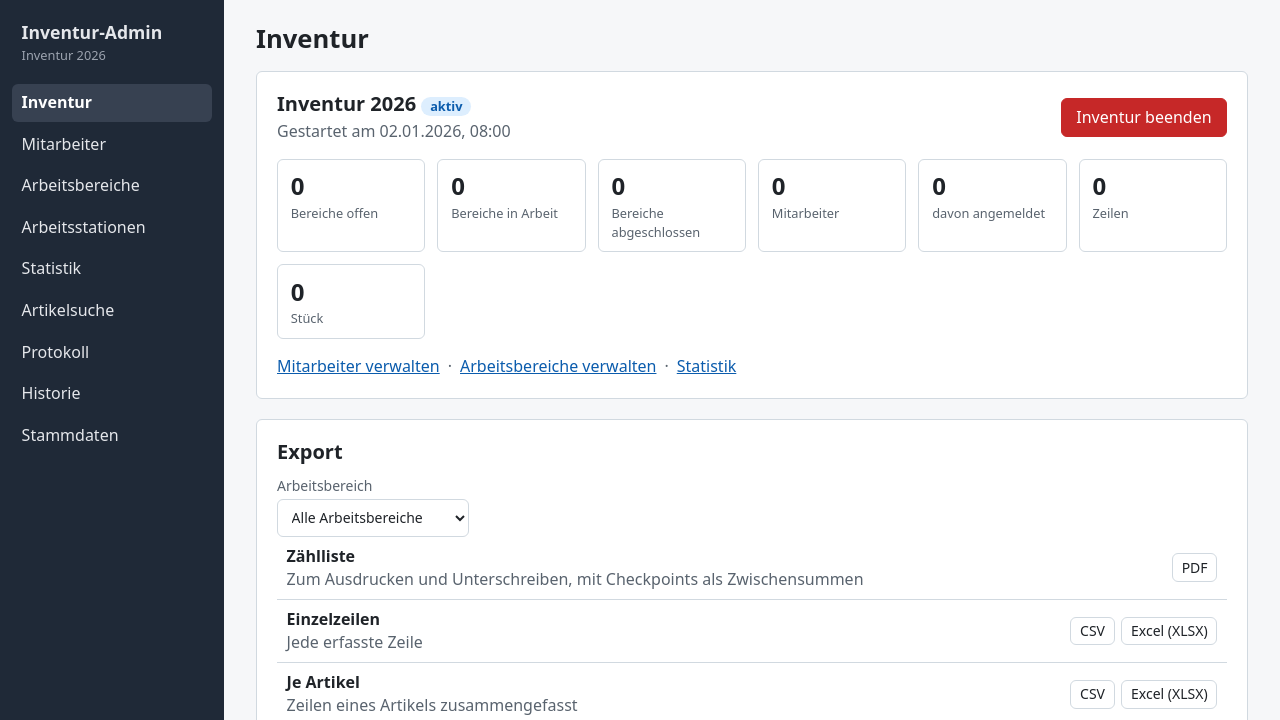
it: stocktake page › closes the finish dialog on cancel without finishing
This screenshot has width=1280, height=720.
Click the button "Inventur beenden": [1144, 117] box [1061,98,1227,137]
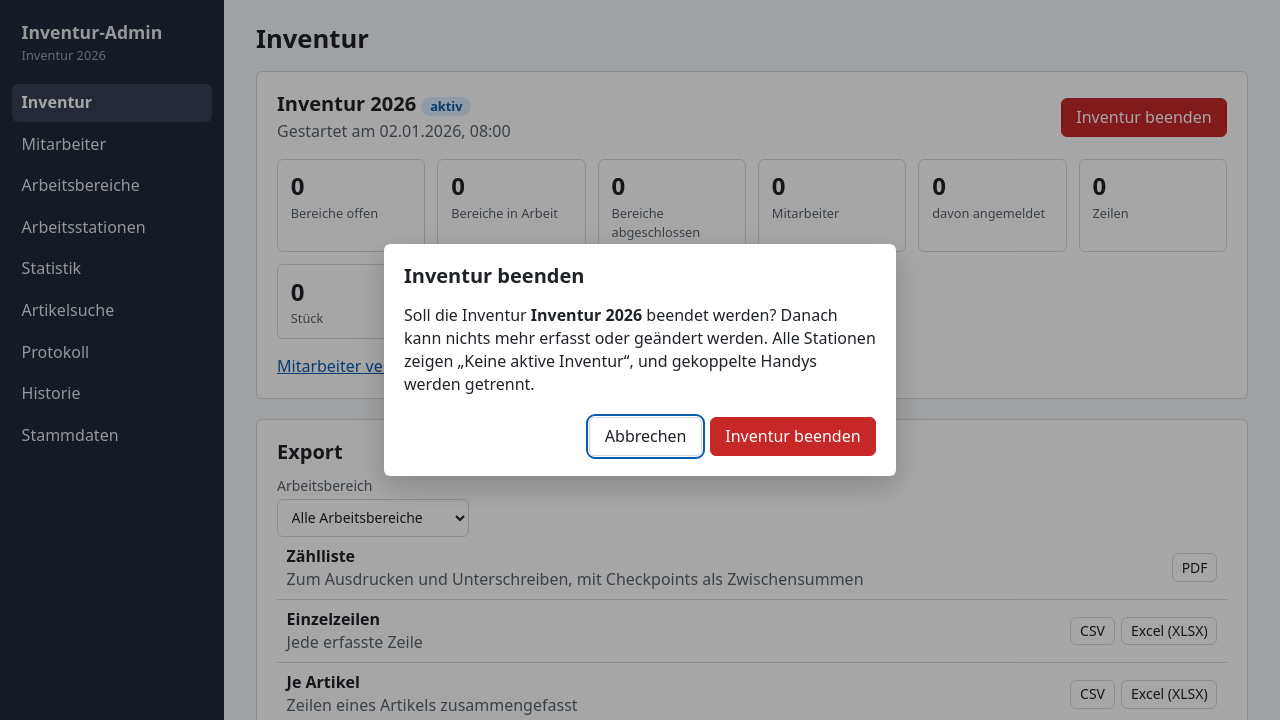
Click the button "Abbrechen": [646, 436] box [589,417,702,456]
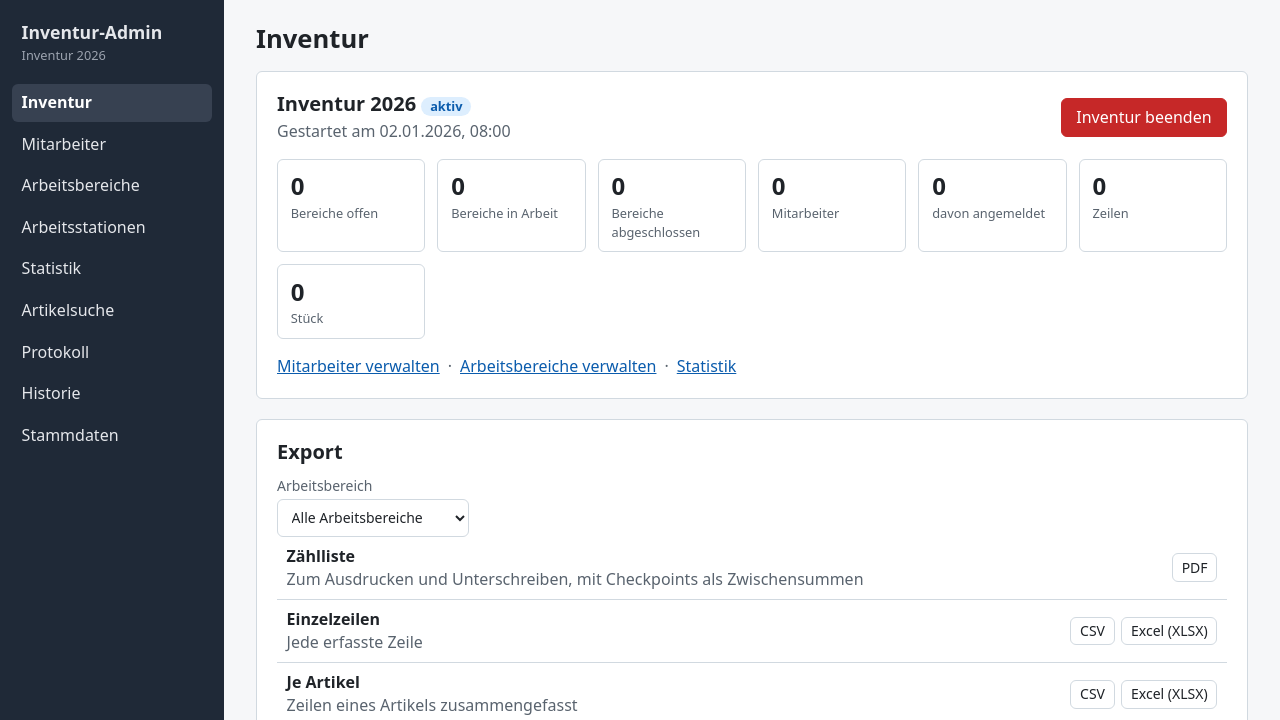
Now the dialog is gone
